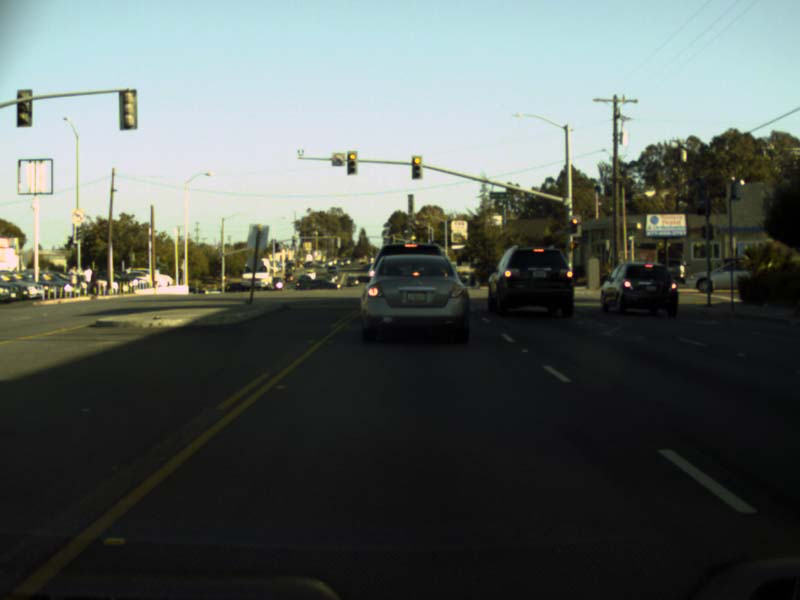Red: (411, 156, 421, 178), (347, 151, 356, 174), (569, 219, 576, 232)
